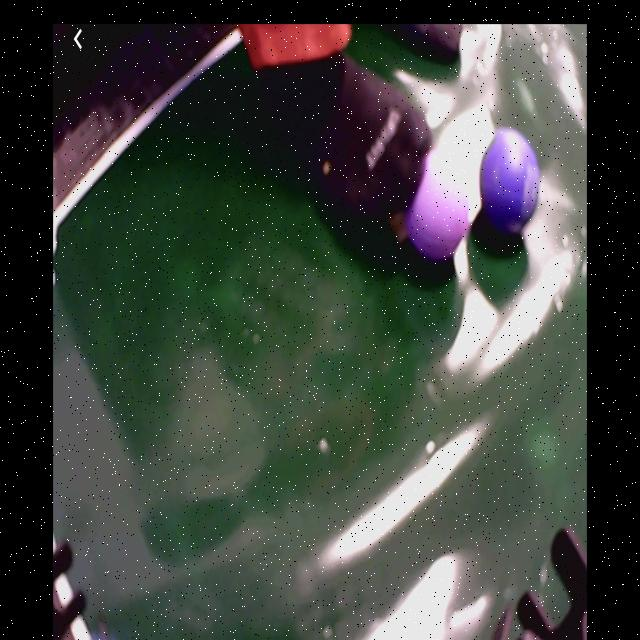ball: (407, 149, 469, 261), (480, 130, 539, 233)
